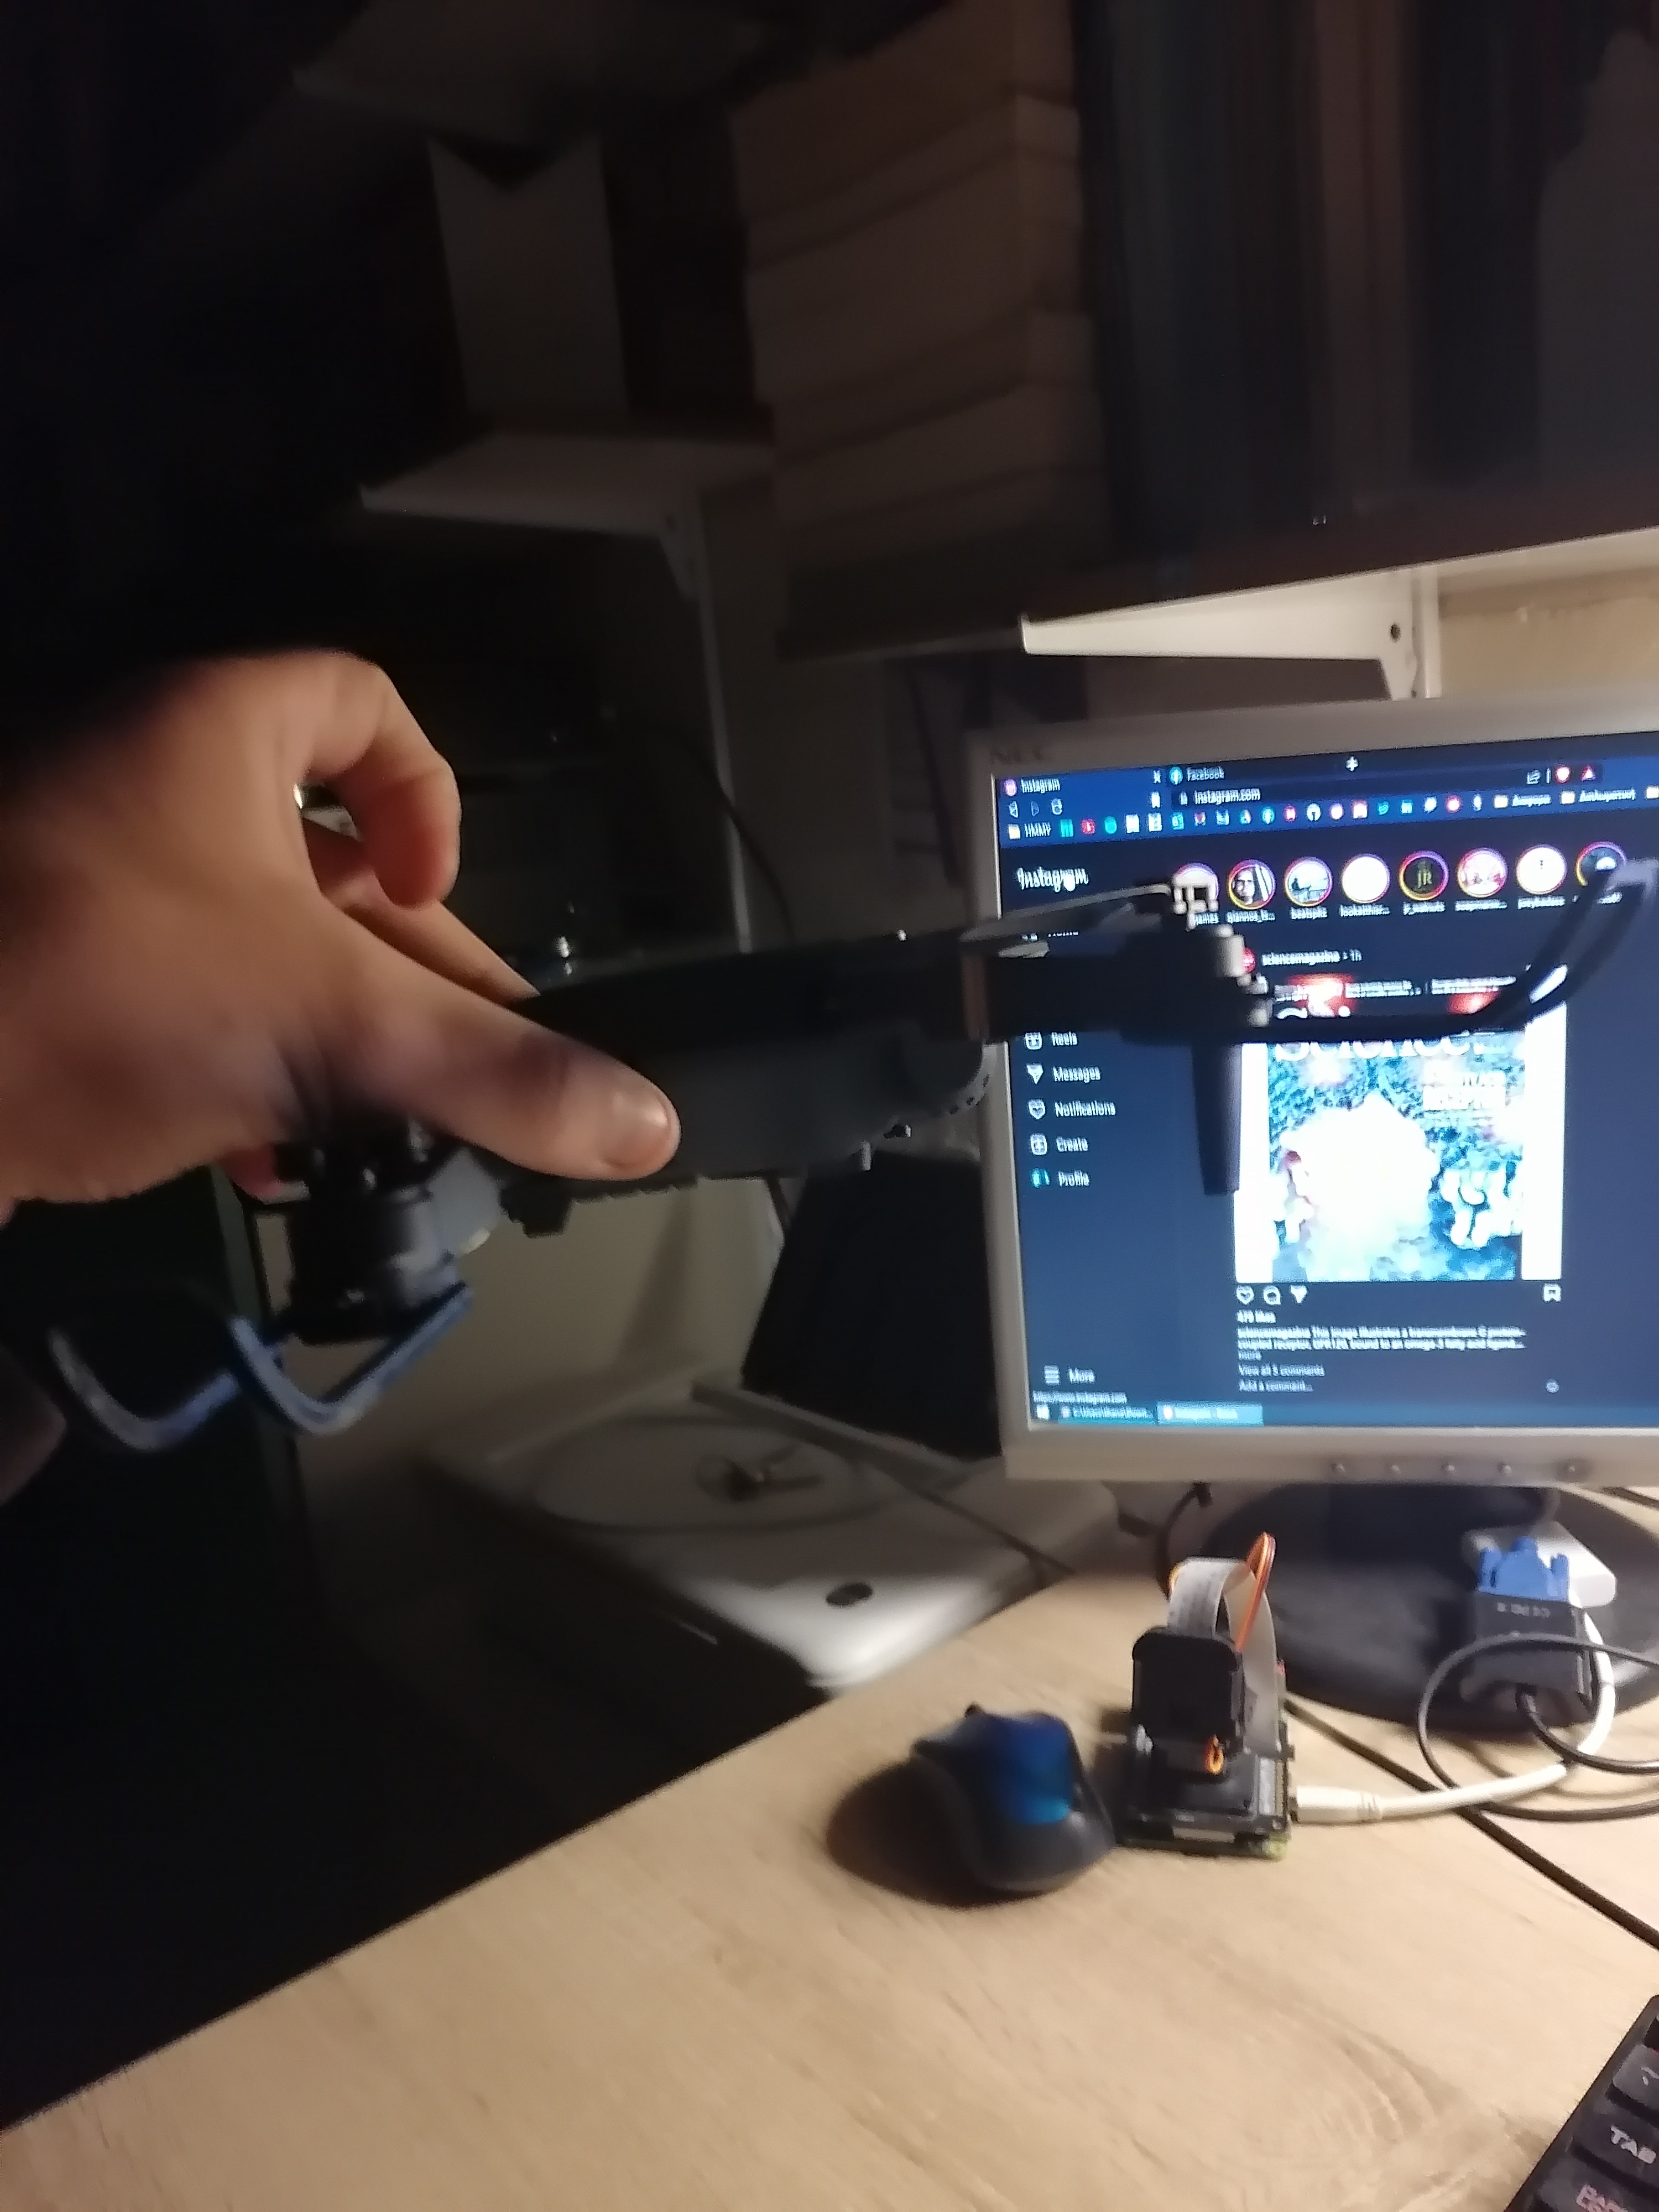drone: (61, 951, 1654, 1244)
